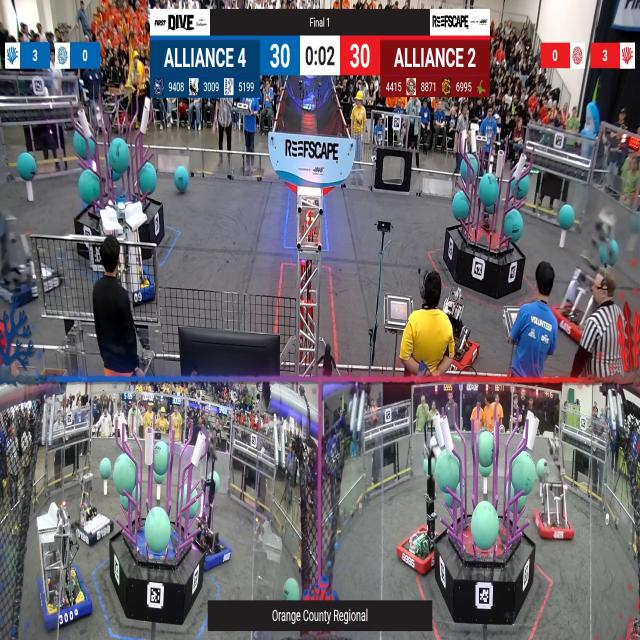scoreboard: (150, 35, 489, 98)
